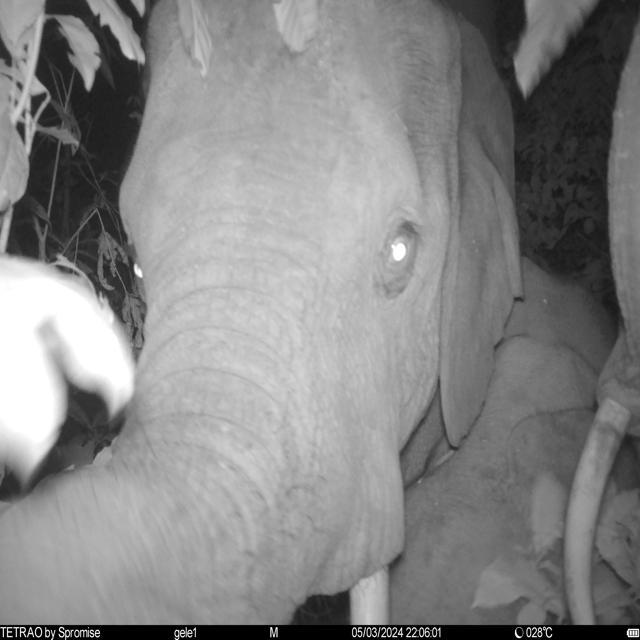calf: (392, 257, 620, 625)
ear: (438, 9, 524, 448)
elephant: (0, 1, 524, 625), (561, 27, 640, 625)
tusk: (561, 396, 634, 625), (349, 563, 392, 625)
